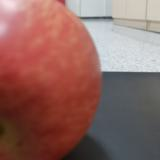apple: (1, 1, 101, 160)
